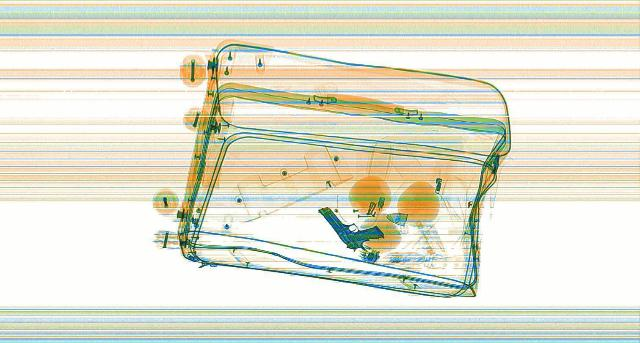Gun: (314, 200, 394, 253)
